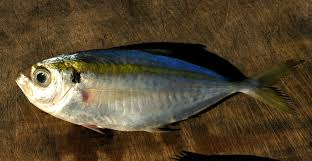Ikan Selar: (11, 38, 307, 137)
